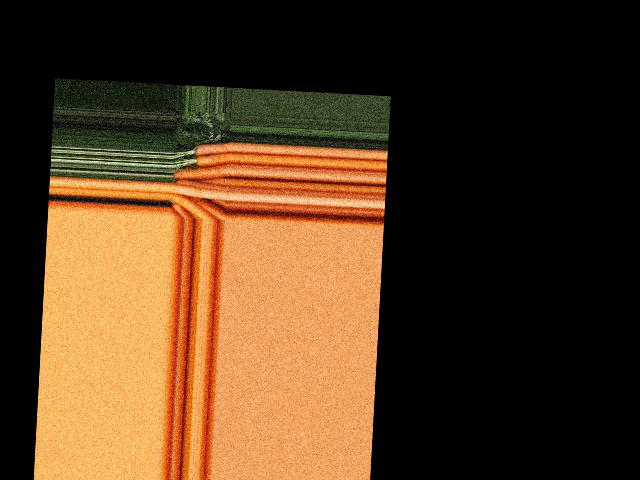carrot: (171, 195, 215, 219)
